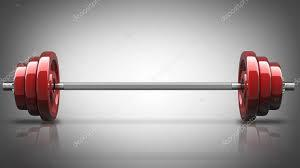dumbell: (4, 50, 295, 122)
